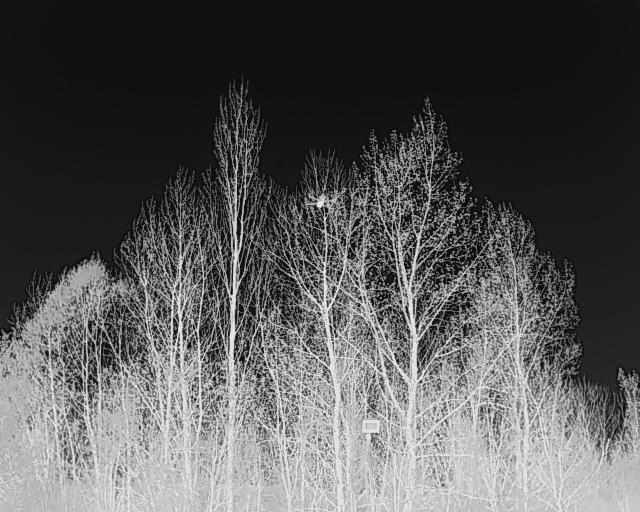drone: (301, 188, 339, 215)
